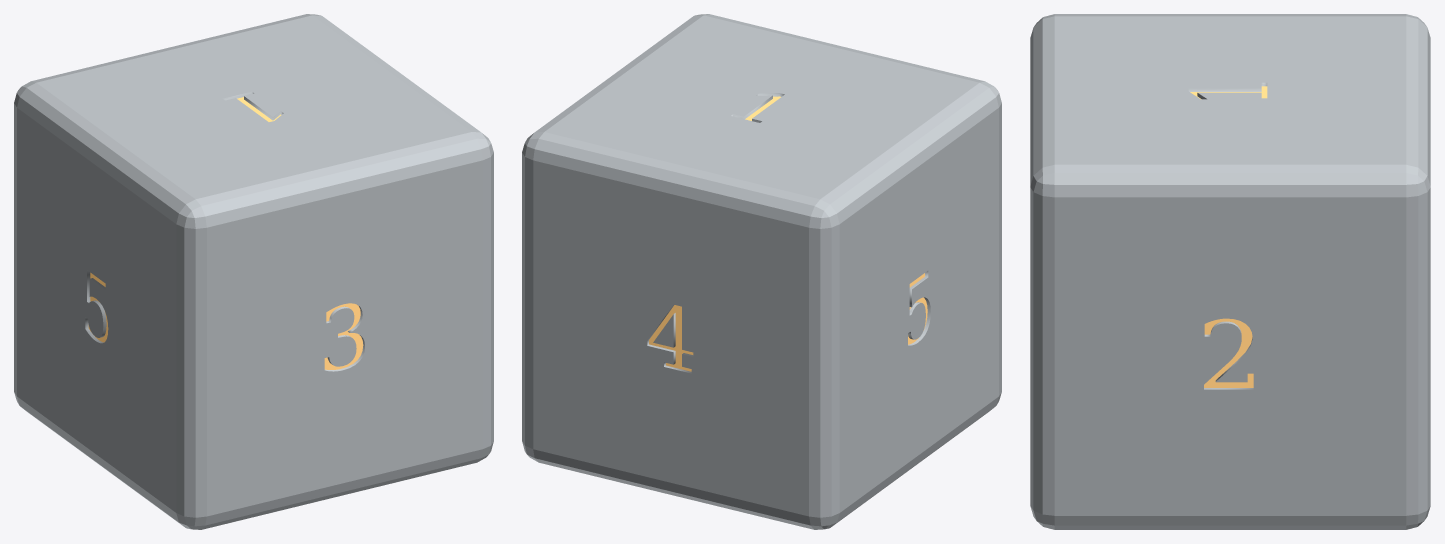
Rendered from d6_boolean_engraved.glb.
The picture shows the model from 3 angles, left to right: view 1: azimuth 30°, elevation 25°; view 2: azimuth 150°, elevation 25°; view 3: azimuth 270°, elevation 25°; orthographic projection. The views are drawn at different scales.
Visible parts, largest first — view 1: Sculpted_Obsidian, Recessed_Bronze_Number_Geometry; view 2: Sculpted_Obsidian, Recessed_Bronze_Number_Geometry; view 3: Sculpted_Obsidian, Recessed_Bronze_Number_Geometry.
Part boxes in pixels (box(x1,y1,x2,y2)): Sculpted_Obsidian: box(14, 14, 493, 529); Recessed_Bronze_Number_Geometry: box(88, 97, 363, 369); Sculpted_Obsidian: box(522, 14, 1001, 529); Recessed_Bronze_Number_Geometry: box(649, 96, 927, 371); Sculpted_Obsidian: box(1030, 14, 1430, 529); Recessed_Bronze_Number_Geometry: box(1190, 86, 1267, 387).
Size of the model in its own units: 1.22 by 1.22 by 1.22.
2 materials, 1 textured.
